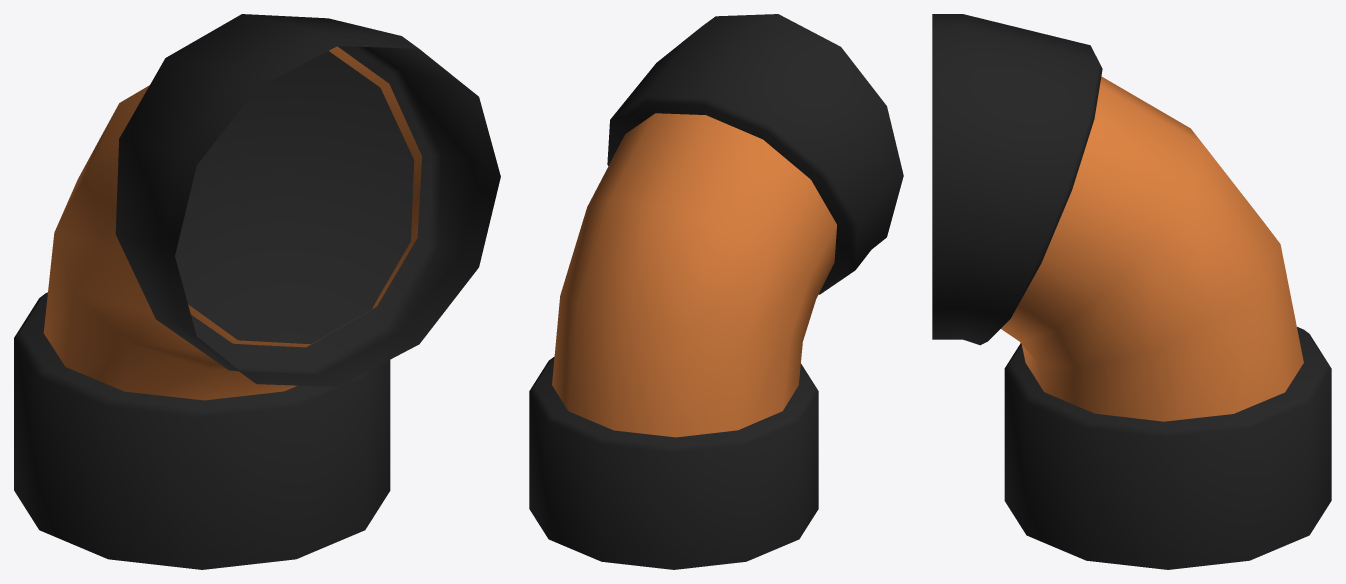
The model's file is pipecorner_001.fbx.
The picture shows the model from 3 angles, left to right: view 1: azimuth 30°, elevation 25°; view 2: azimuth 150°, elevation 25°; view 3: azimuth 270°, elevation 25°; orthographic projection. The views are drawn at different scales.
Visible parts, largest first — view 1: pipecorner_001; view 2: pipecorner_001; view 3: pipecorner_001.
Part boxes in pixels (bbox=[...]): pipecorner_001: bbox=[14, 14, 500, 569]; pipecorner_001: bbox=[529, 14, 903, 569]; pipecorner_001: bbox=[932, 14, 1331, 569].
Bounding box in the file's own units: 157 × 191 × 250.
